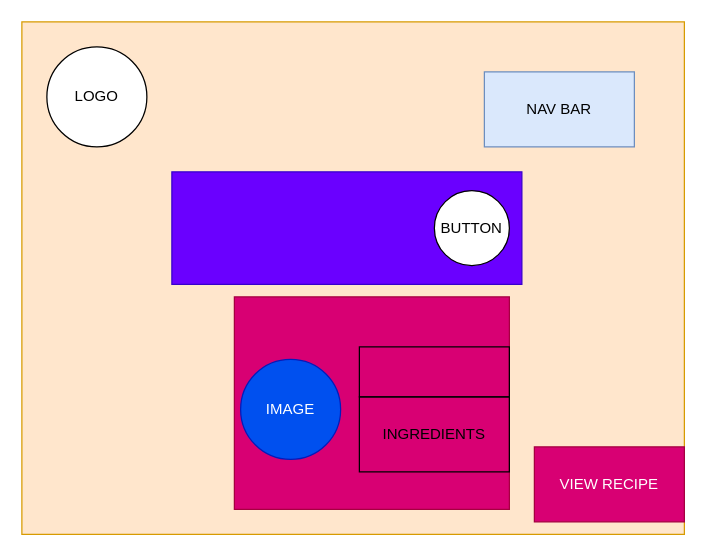
Image size: 706x556. Some labels were removed from this diagram. Here are the shapes that lost their labels. From the top down, the box of each, then its label:
(171, 171, 522, 284): SEARCH BAR
(358, 346, 509, 397): FOOD NAME
